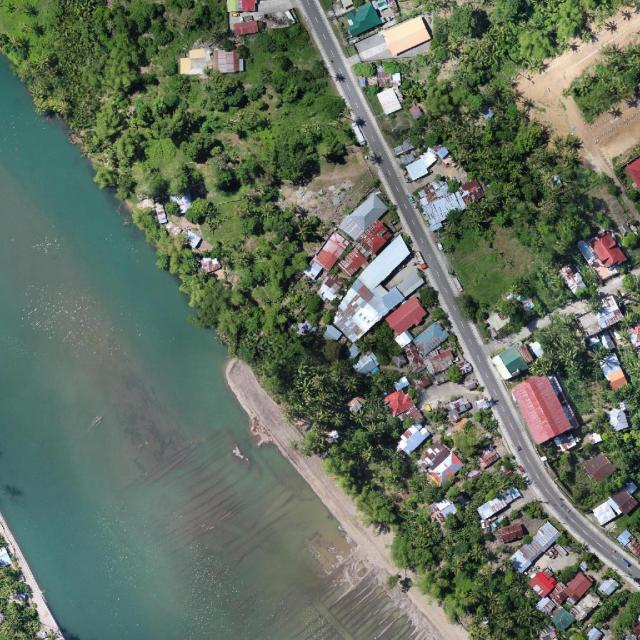building: (320, 235, 435, 347), (521, 550, 609, 638), (508, 367, 580, 446), (354, 15, 436, 70), (398, 320, 462, 383), (448, 419, 503, 474), (507, 519, 562, 574), (414, 437, 467, 490), (338, 192, 389, 243), (381, 294, 432, 343), (474, 483, 521, 523), (392, 419, 432, 459), (341, 1, 383, 39), (312, 231, 350, 272), (490, 344, 528, 381), (382, 386, 417, 422), (583, 451, 617, 485), (595, 574, 621, 599), (448, 395, 473, 417), (626, 158, 640, 191), (588, 627, 604, 640)
